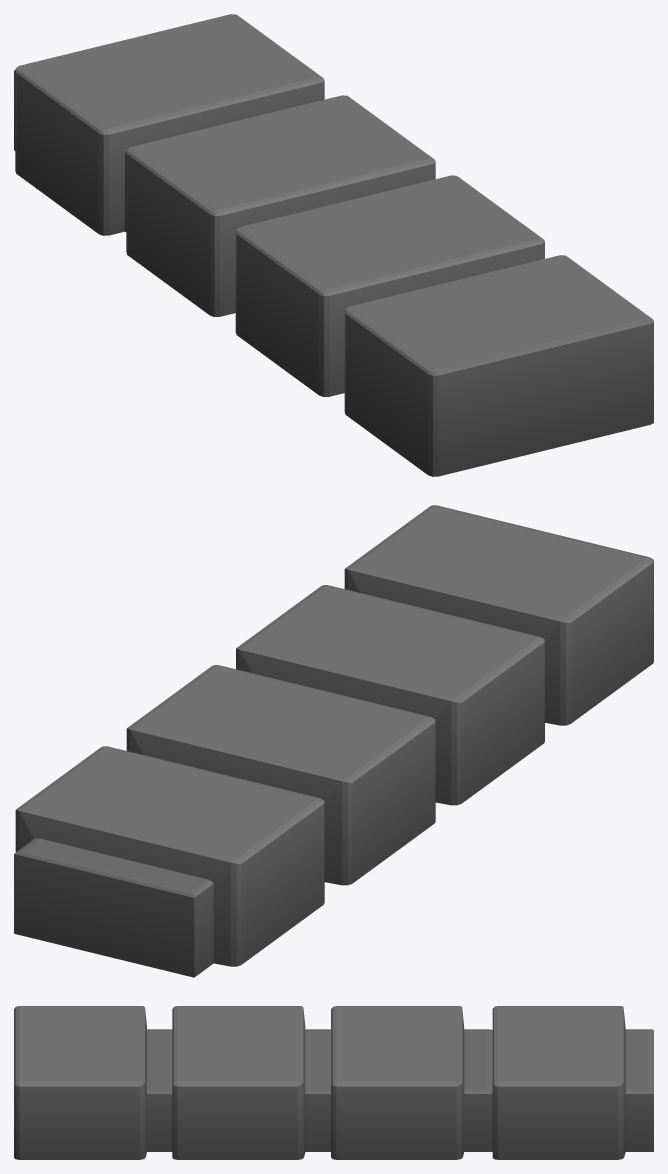
The model's file is muro baixo.fbx.
3 views of the same model, one above another, from view 1: azimuth 30°, elevation 25°; view 2: azimuth 150°, elevation 25°; view 3: azimuth 270°, elevation 25° (orthographic). The views are drawn at different scales.
Visible parts, largest first — view 1: murobaixo; view 2: murobaixo; view 3: murobaixo.
Boxes of the visible parts, left/top/right/bottom form: murobaixo: left=14, top=14, right=653, bottom=476; murobaixo: left=14, top=505, right=653, bottom=977; murobaixo: left=14, top=1006, right=653, bottom=1159.
Size of the model in its own units: 200 by 87.97 by 677.
